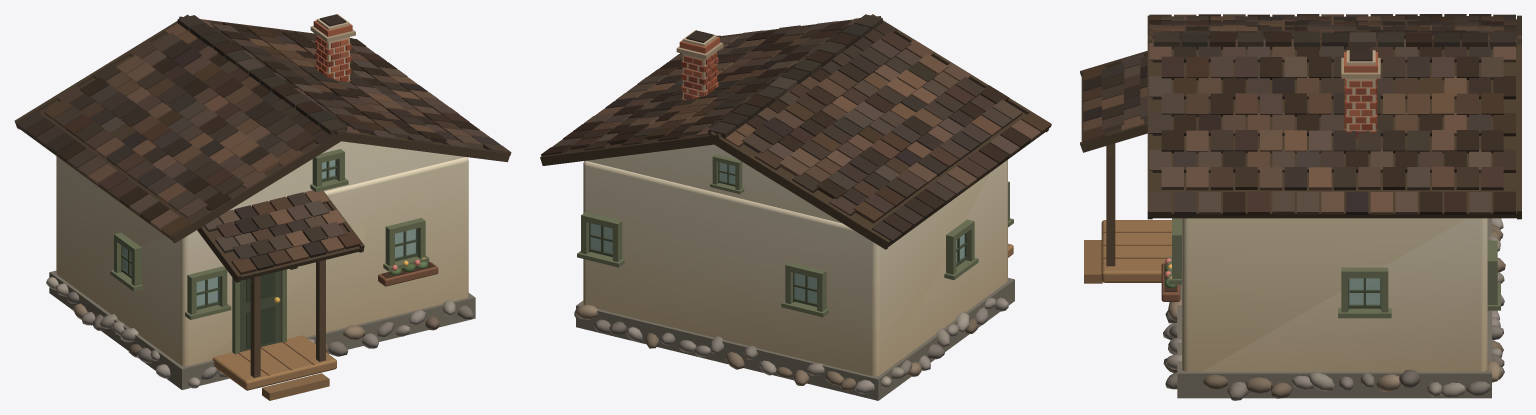
File: farmhouse.fixed.m1.glb
3 views of the same model, side by side, from view 1: azimuth 30°, elevation 25°; view 2: azimuth 150°, elevation 25°; view 3: azimuth 270°, elevation 25° (orthographic). The views are drawn at different scales.
Visible parts, largest first — view 1: farmhousebatch0, farmhouseWalls, farmhouseFoundation, farmhousebatch1, farmhousebatch2, porch, frontDoor, chimney, windowFrame_3, windowPane, windowPane_1; view 2: farmhouseWalls, farmhousebatch0, farmhouseFoundation, chimney, windowFrame, windowFrame_1, windowFrame_3, windowFrame_2, windowPane_5, windowPane_4; view 3: farmhousebatch0, farmhouseWalls, farmhouseFoundation, porch, farmhousebatch1, chimney, farmhousebatch2, windowFrame, windowPane_2.
Part boxes in pixels (left/top/right/bottom): farmhousebatch0: left=14, top=14, right=511, bottom=282; farmhouseWalls: left=56, top=141, right=468, bottom=366; farmhouseFoundation: left=46, top=270, right=475, bottom=389; farmhousebatch1: left=238, top=257, right=438, bottom=400; farmhousebatch2: left=185, top=149, right=429, bottom=319; porch: left=212, top=335, right=336, bottom=390; frontDoor: left=232, top=269, right=286, bottom=354; chimney: left=310, top=14, right=355, bottom=82; windowFrame_3: left=110, top=232, right=143, bottom=291; windowPane: left=196, top=277, right=218, bottom=306; windowPane_1: left=395, top=229, right=416, bottom=258; farmhouseWalls: left=583, top=144, right=1007, bottom=376; farmhousebatch0: left=540, top=14, right=1051, bottom=249; farmhouseFoundation: left=574, top=278, right=1014, bottom=400; chimney: left=676, top=30, right=723, bottom=100; windowFrame: left=577, top=212, right=624, bottom=267; windowFrame_1: left=781, top=262, right=828, bottom=317; windowFrame_3: left=944, top=219, right=978, bottom=279; windowFrame_2: left=710, top=154, right=744, bottom=194; windowPane_5: left=794, top=273, right=816, bottom=303; windowPane_4: left=590, top=223, right=612, bottom=253; farmhousebatch0: left=1080, top=14, right=1521, bottom=219; farmhouseWalls: left=1182, top=218, right=1487, bottom=371; farmhouseFoundation: left=1163, top=218, right=1505, bottom=400; porch: left=1101, top=220, right=1171, bottom=282; farmhousebatch1: left=1084, top=143, right=1180, bottom=301; chimney: left=1341, top=50, right=1380, bottom=137; farmhousebatch2: left=1168, top=218, right=1391, bottom=318; windowFrame: left=1487, top=240, right=1500, bottom=310; windowPane_2: left=1349, top=278, right=1380, bottom=304.
Size of the model in its own units: 8.57 by 6.26 by 8.09.
